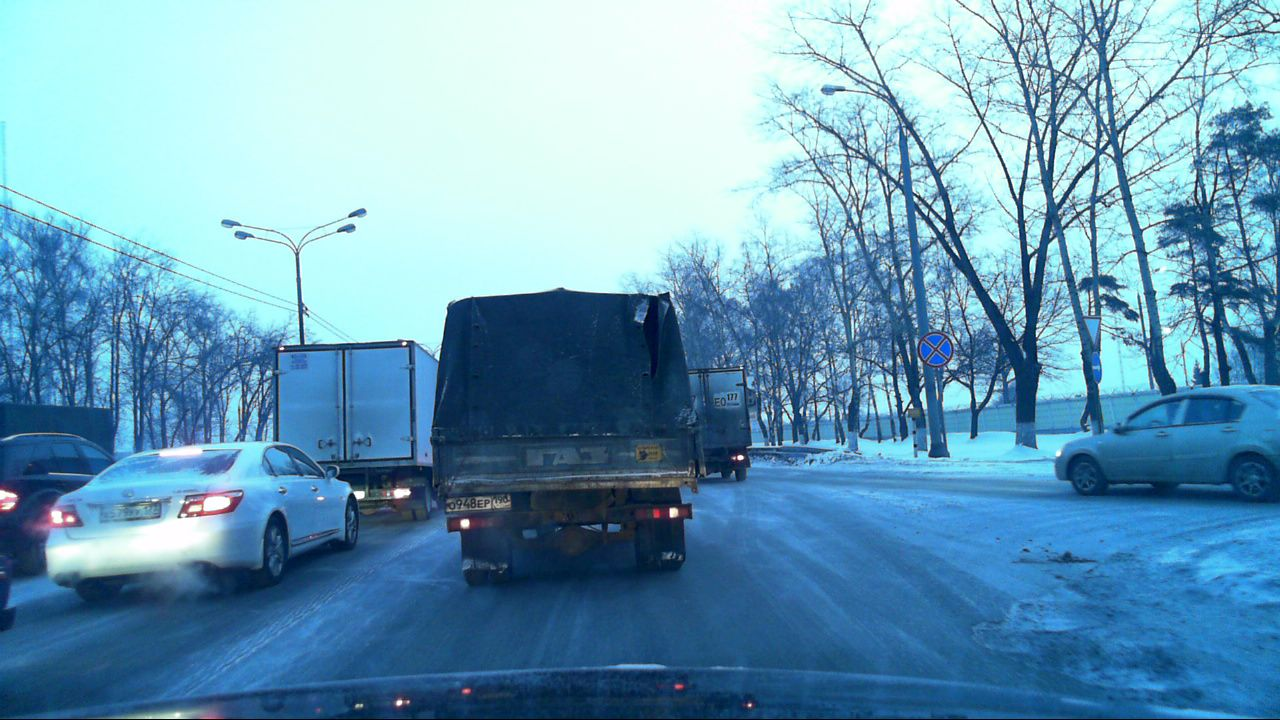No Parking: (916, 331, 954, 367)
